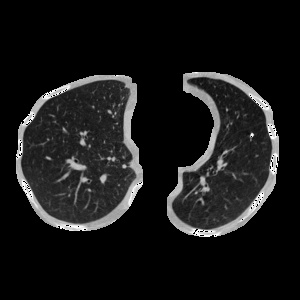PN: (250, 133, 254, 137)
